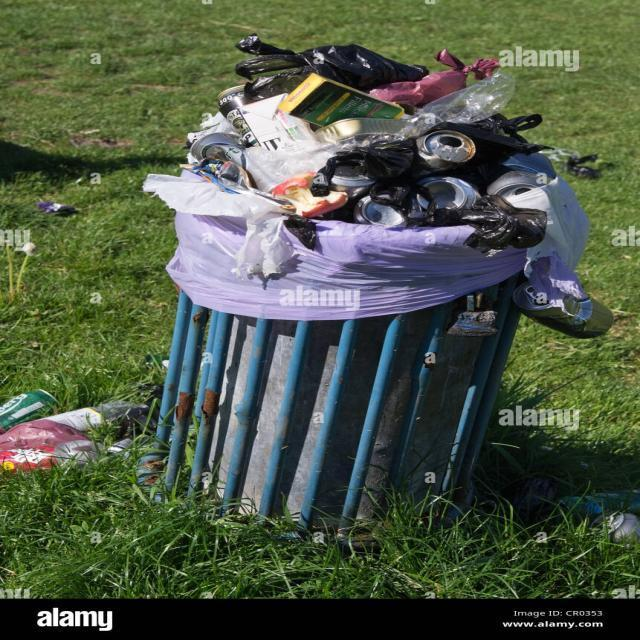Garbage: (188, 35, 613, 337)
Metal: (315, 118, 406, 144)
Plastic_Bag: (249, 71, 515, 181), (236, 34, 428, 101), (311, 140, 432, 214), (408, 195, 547, 253), (400, 70, 515, 138), (369, 50, 498, 106), (426, 114, 551, 158), (246, 141, 339, 184)
can: (513, 282, 613, 339), (486, 152, 557, 197), (412, 130, 476, 176), (218, 85, 258, 145), (190, 132, 246, 168), (418, 176, 480, 208), (353, 196, 406, 226), (329, 166, 375, 198), (408, 194, 430, 218)
